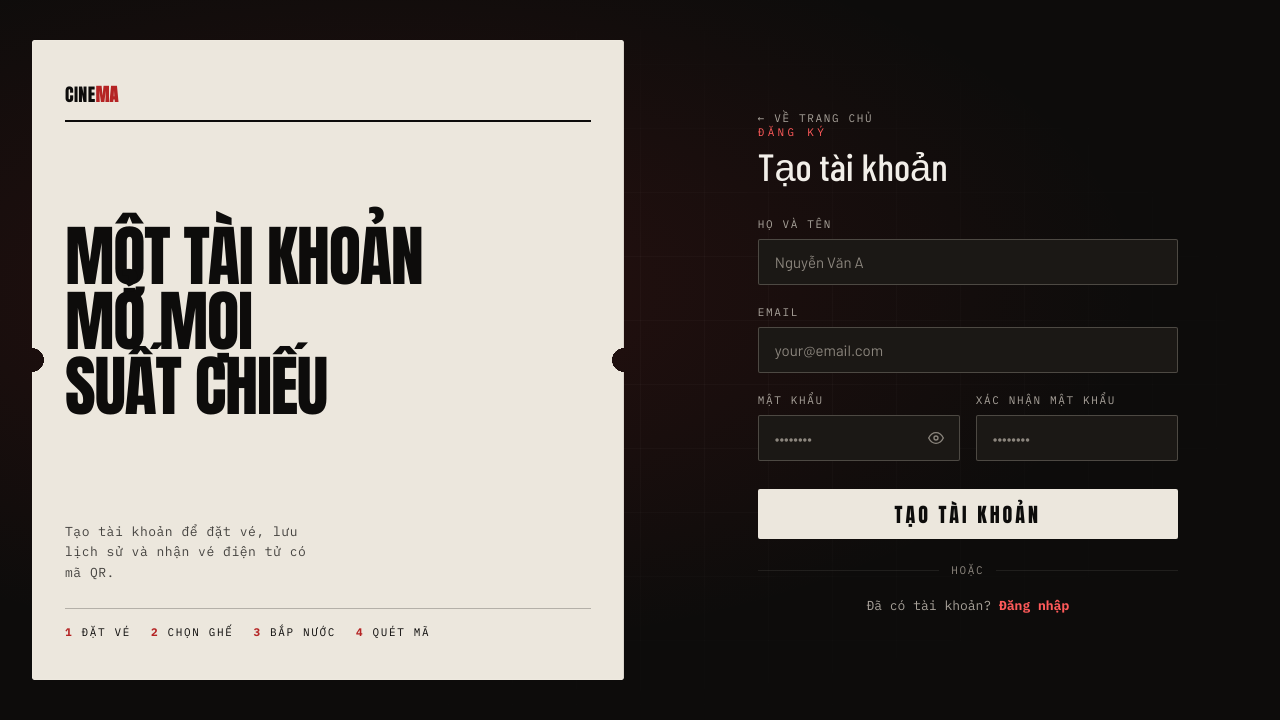
Test case: Register › xác nhận không khớp thì báo lỗi, không gọi API
Check: the button "Tạo tài khoản" is shown, box [758, 489, 1178, 539]
Type "Người Mới" into the field labelled "Họ và tên" at (968,262), box [758, 239, 1178, 285]
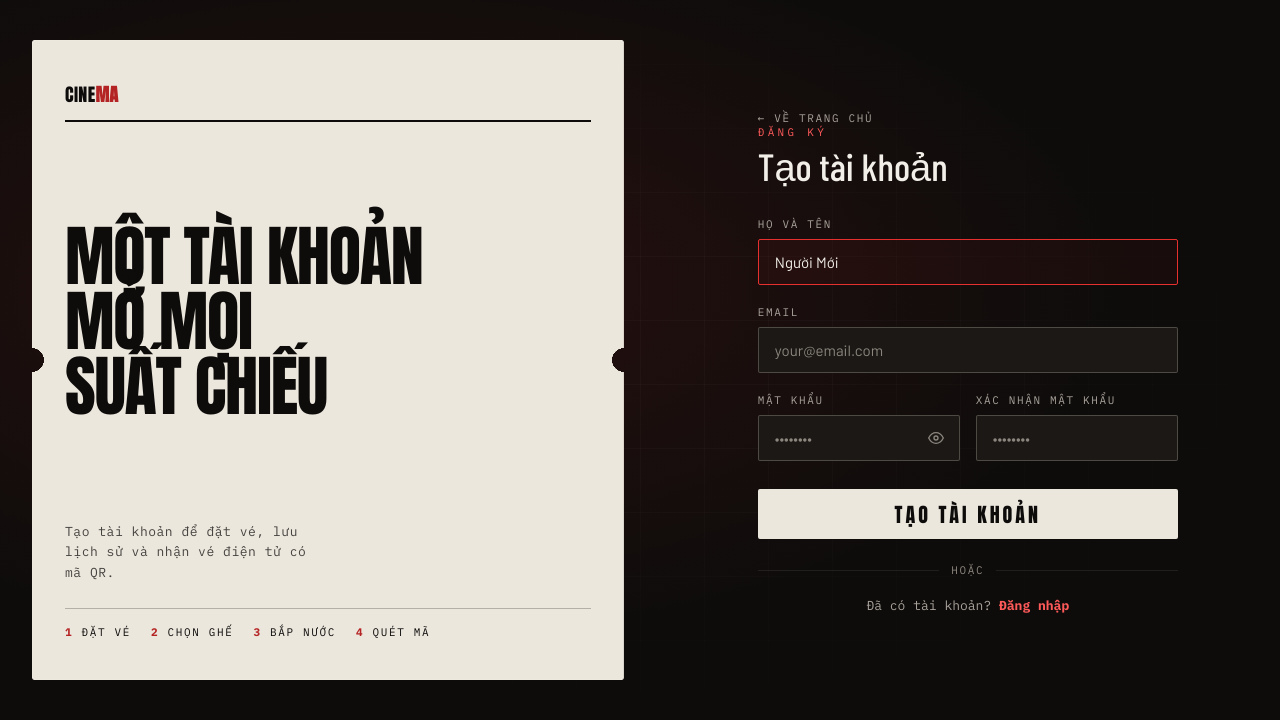
Type "moi@cinema.vn" into the field labelled "Email" at (968,350), box [758, 327, 1178, 373]
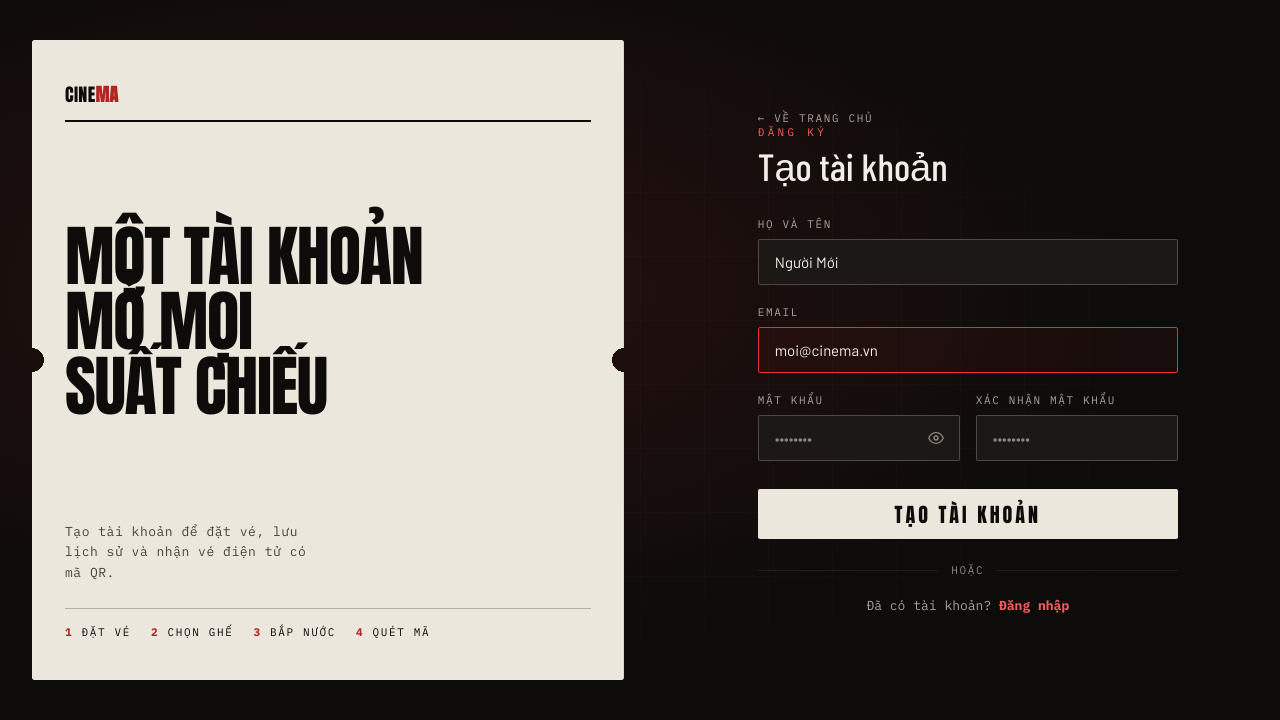
Type "123456" into the password field labelled "Mật khẩu" at (859,438), box [758, 415, 960, 461]
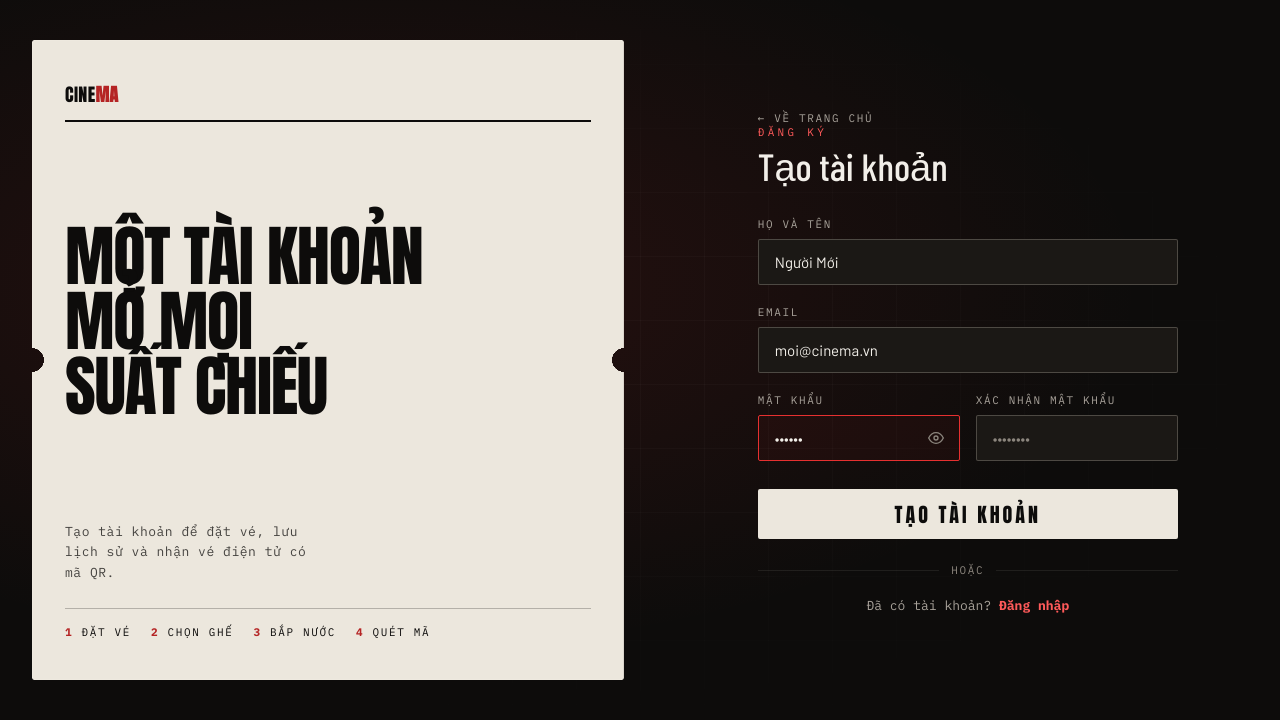
Type "654321" into the password field labelled "Xác nhận mật khẩu" at (1077,438), box [976, 415, 1178, 461]
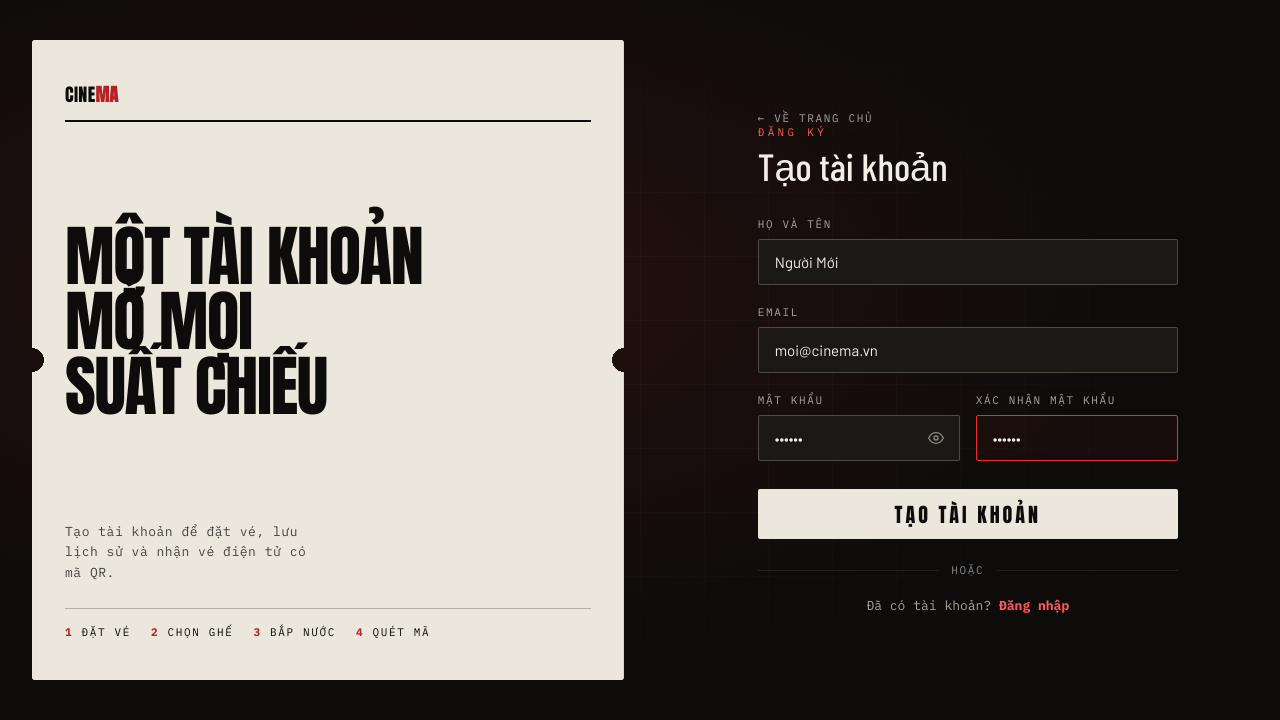
Click the button "Tạo tài khoản" at (968,514), box [758, 489, 1178, 539]
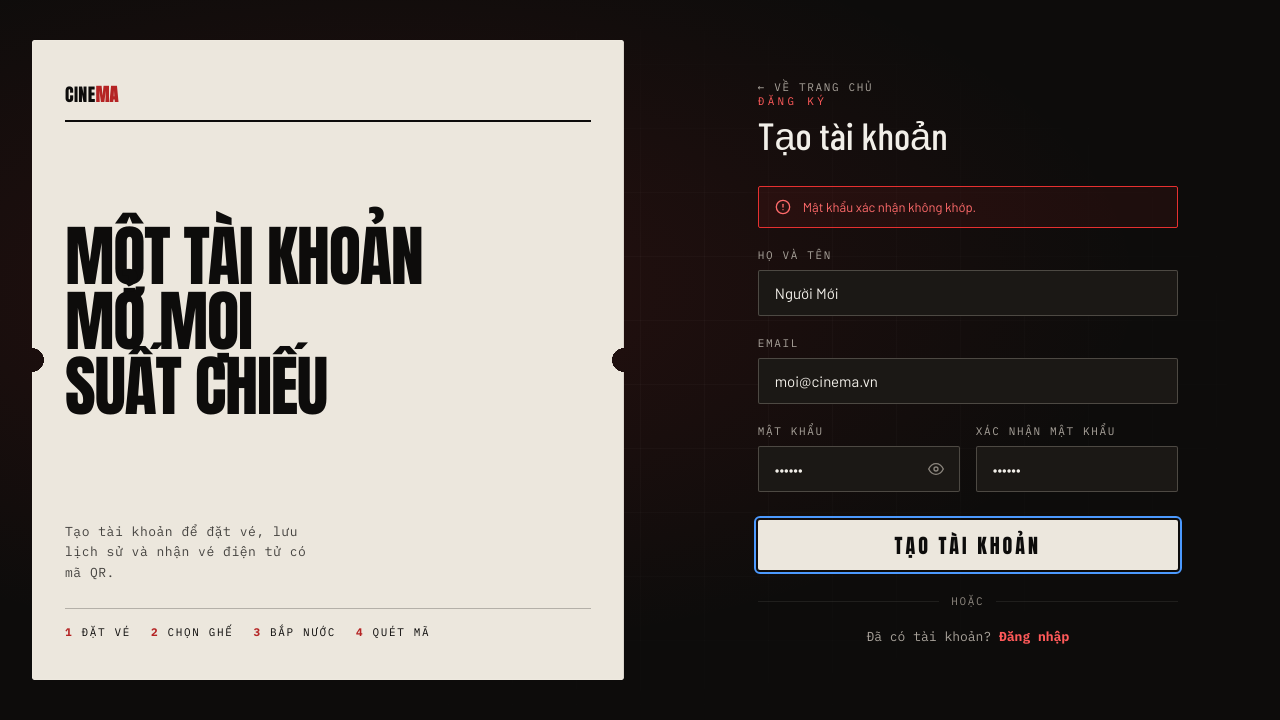
Check: the text "Mật khẩu xác nhận không khớp." is shown, box [758, 186, 1178, 228]
